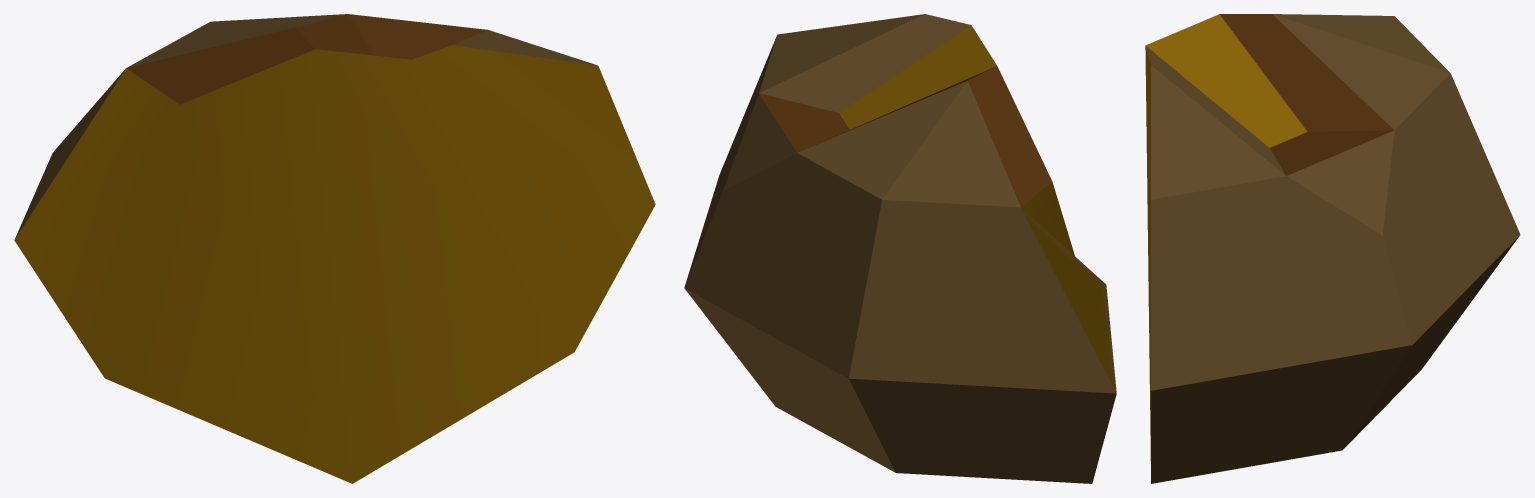
The model's file is food_roll_halfeaten.fbx.
The picture shows the model from 3 angles, left to right: view 1: azimuth 30°, elevation 25°; view 2: azimuth 150°, elevation 25°; view 3: azimuth 270°, elevation 25°; orthographic projection. The views are drawn at different scales.
Visible parts, largest first — view 1: pCylinder7; view 2: pCylinder7; view 3: pCylinder7.
Boxes of the visible parts, box(x1,y1,x2,y2) form: pCylinder7: box(14, 14, 655, 483); pCylinder7: box(684, 14, 1116, 483); pCylinder7: box(1145, 14, 1520, 483).
Size of the model in its own units: 56.15 by 42.97 by 33.4.
Materials: 1 (1 with a texture image).
